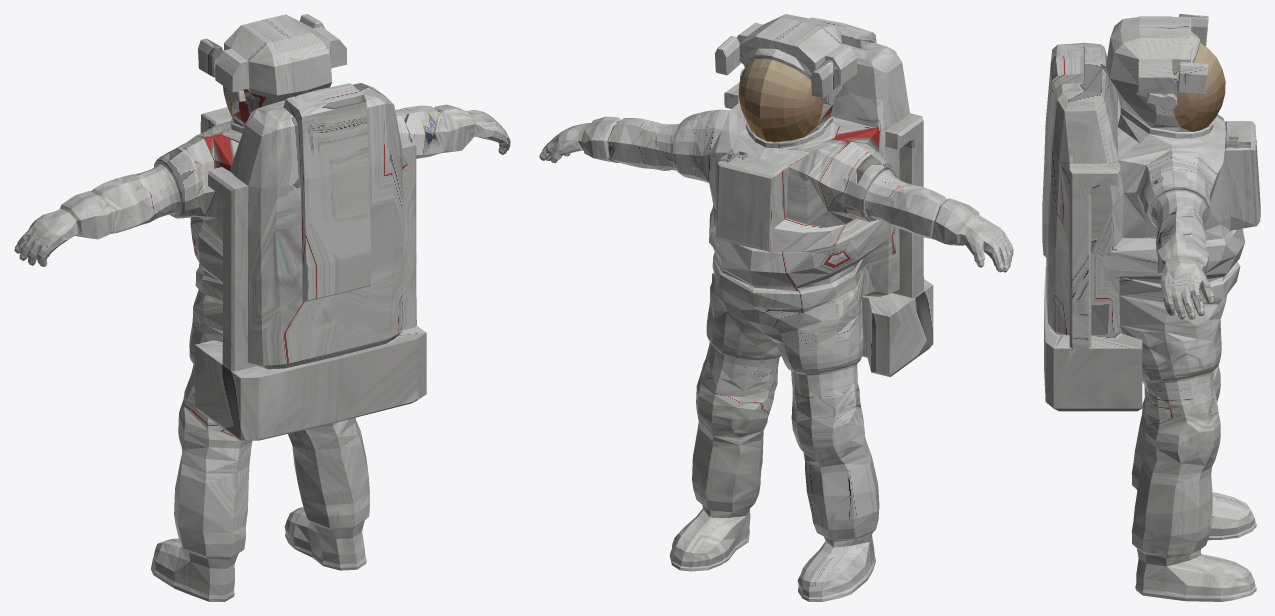
File: astronaut.glb
The picture shows the model from 3 angles, left to right: view 1: azimuth 30°, elevation 25°; view 2: azimuth 150°, elevation 25°; view 3: azimuth 270°, elevation 25°; orthographic projection. The views are drawn at different scales.
Visible parts, largest first — view 1: mesh_id5; view 2: mesh_id5, mesh_id6; view 3: mesh_id5, mesh_id6.
Part boxes in pixels (x1,y1,x2,y2): mesh_id5: (14,14,510,601); mesh_id5: (539,14,1013,601); mesh_id6: (738,58,823,141); mesh_id5: (1042,14,1260,601); mesh_id6: (1173,42,1225,131).
Bounding box in the file's own units: 0.4751 × 0.512 × 0.1903.
Materials: 2 (2 with a texture image).
